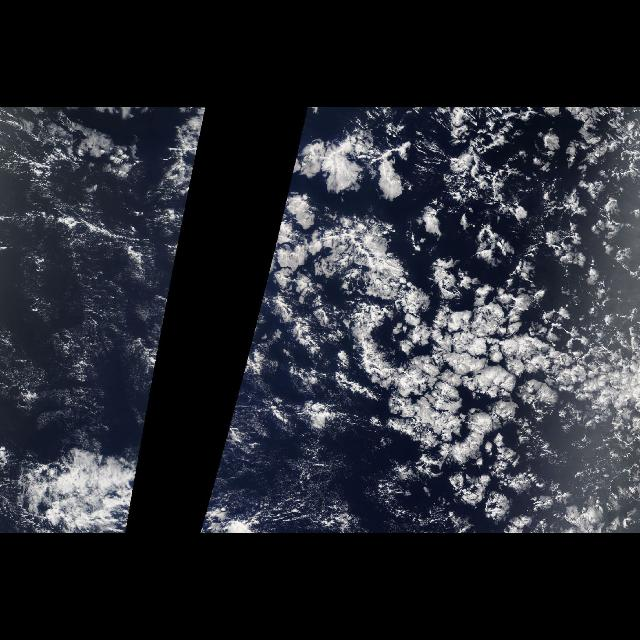Flower: (330, 144, 548, 406)
Gravel: (444, 134, 638, 236)
Sugar: (3, 231, 185, 469), (218, 230, 352, 512)
